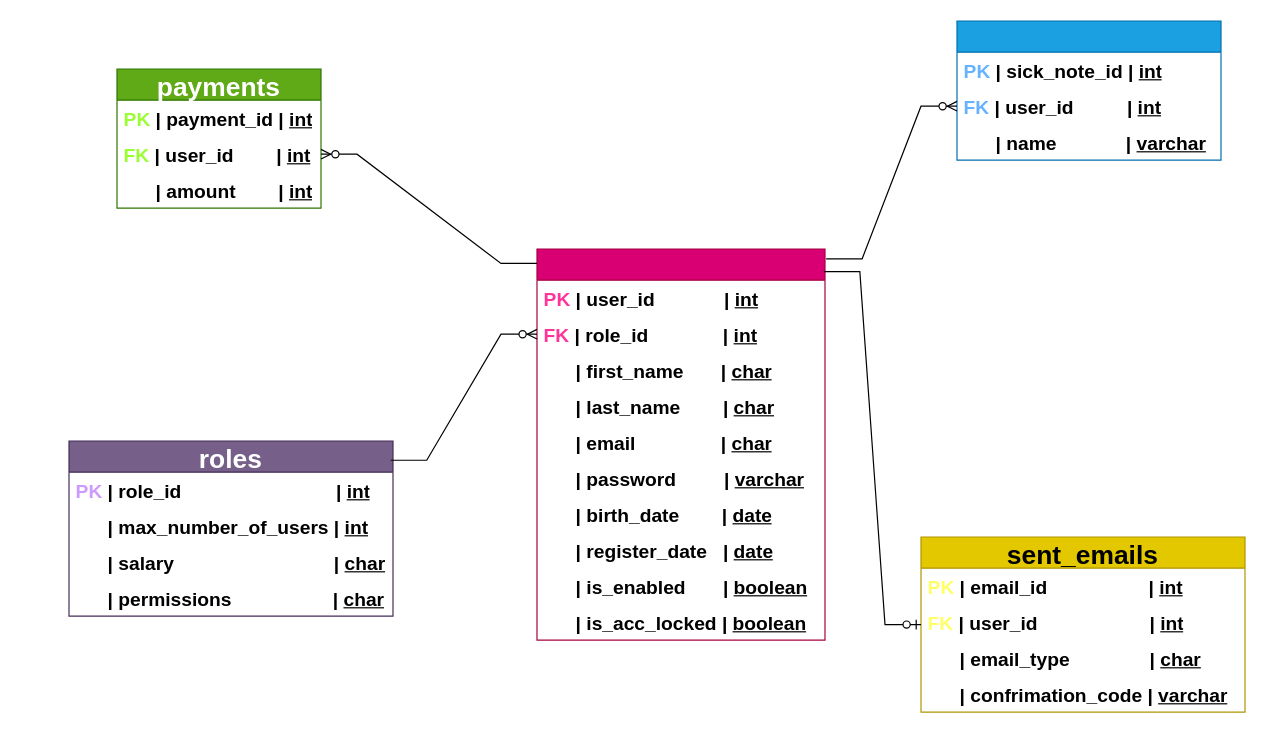
The diagram is 1266 pixels wide and 737 high, and some of its shapes have lost their labels. The box of each missing label's shape, as (x1, y1, x2, y2) in pixels:
sick_notes: (956, 20, 1221, 160)
users_: (536, 248, 825, 640)
